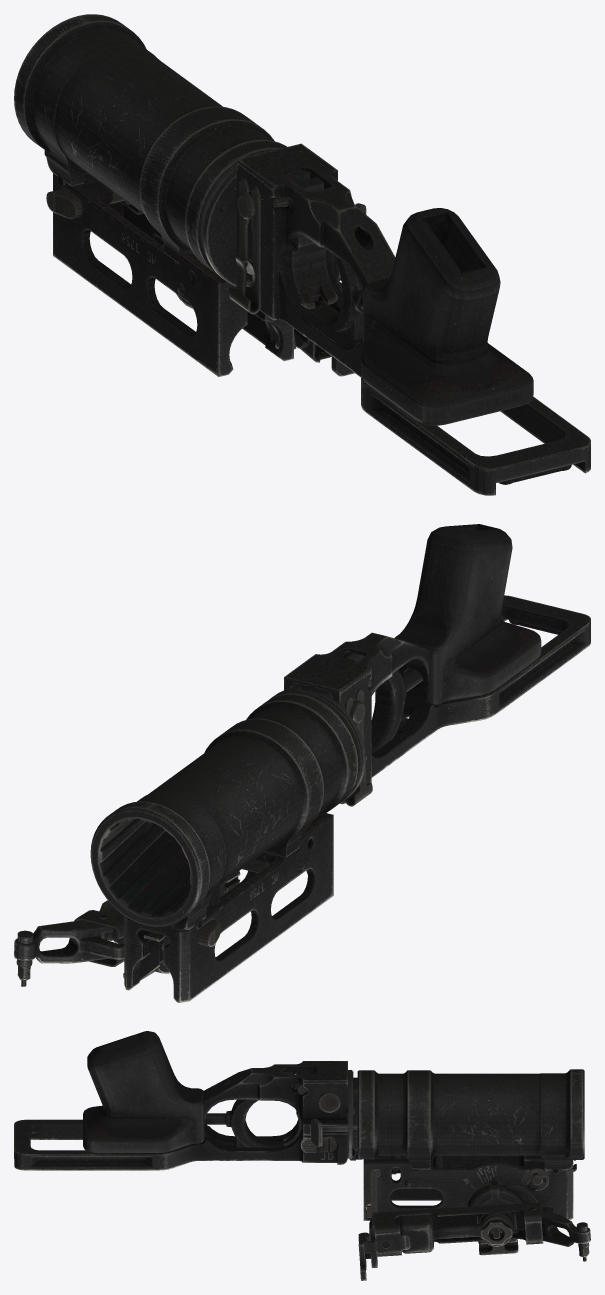
The picture shows the model from 3 angles, top to bottom: view 1: azimuth 30°, elevation 25°; view 2: azimuth 150°, elevation 25°; view 3: azimuth 270°, elevation 25°; orthographic projection. The views are drawn at different scales.
Visible parts, largest first — view 1: TW_62e7e7bbe6da9612f743f1e0_range75_PZ_Import; view 2: TW_62e7e7bbe6da9612f743f1e0_range75_PZ_Import; view 3: TW_62e7e7bbe6da9612f743f1e0_range75_PZ_Import.
Part boxes in pixels (x1,y1,x2,y2): TW_62e7e7bbe6da9612f743f1e0_range75_PZ_Import: (14,14,590,495); TW_62e7e7bbe6da9612f743f1e0_range75_PZ_Import: (14,524,590,1002); TW_62e7e7bbe6da9612f743f1e0_range75_PZ_Import: (14,1031,590,1280).
Size of the model in its own units: 0.0529 by 0.1871 by 0.0707.
1 material, 1 textured.
